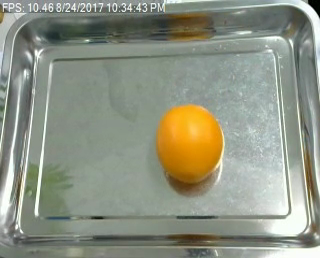Orange: (157, 104, 224, 183)
